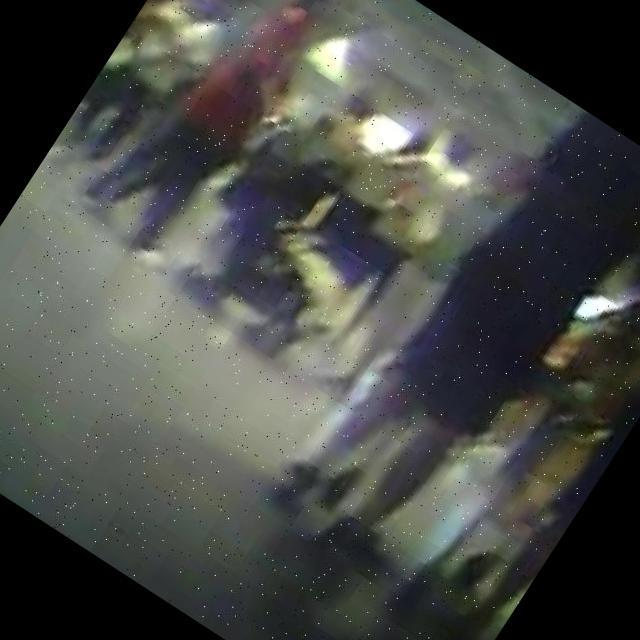person: (260, 75, 640, 626), (415, 176, 640, 640), (71, 0, 361, 275), (316, 133, 546, 430), (238, 90, 450, 370), (297, 110, 494, 368), (184, 68, 379, 316), (60, 0, 281, 182), (141, 0, 221, 21)
